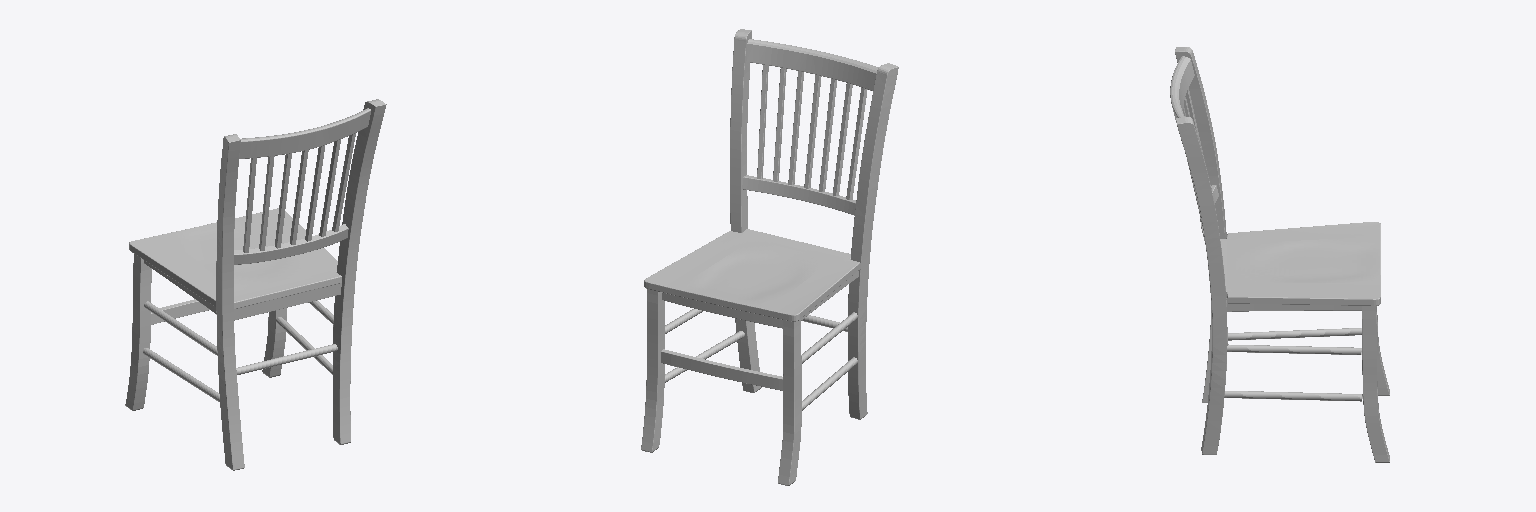
Rendered from Chair_Triangulated.obj.
3 renders of one model, left to right at view 1: azimuth 30°, elevation 25°; view 2: azimuth 150°, elevation 25°; view 3: azimuth 270°, elevation 25°, orthographic.
Parts seen in each view (by area): view 1: CtrlArt_ChairMDL_Free; view 2: CtrlArt_ChairMDL_Free; view 3: CtrlArt_ChairMDL_Free.
Boxes of the visible parts, <box> form: CtrlArt_ChairMDL_Free: <box>125,99,386,470</box>; CtrlArt_ChairMDL_Free: <box>641,29,898,485</box>; CtrlArt_ChairMDL_Free: <box>1170,47,1389,462</box>.
Size of the model in its own units: 44.91 by 93.41 by 54.04.